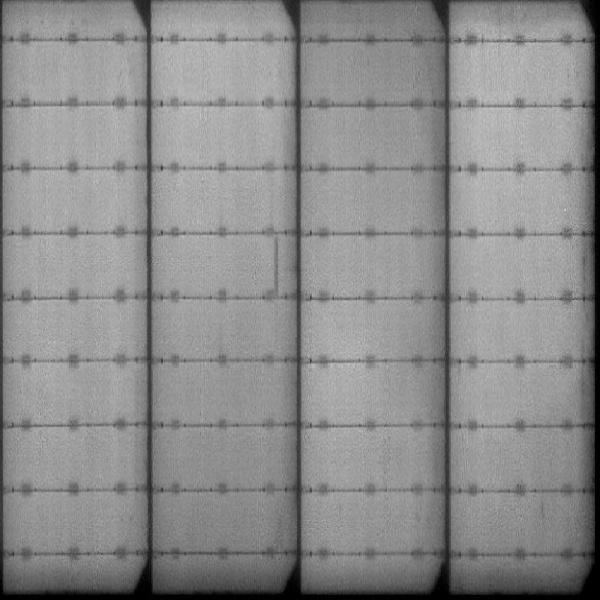scratch: (270, 236, 285, 296)
